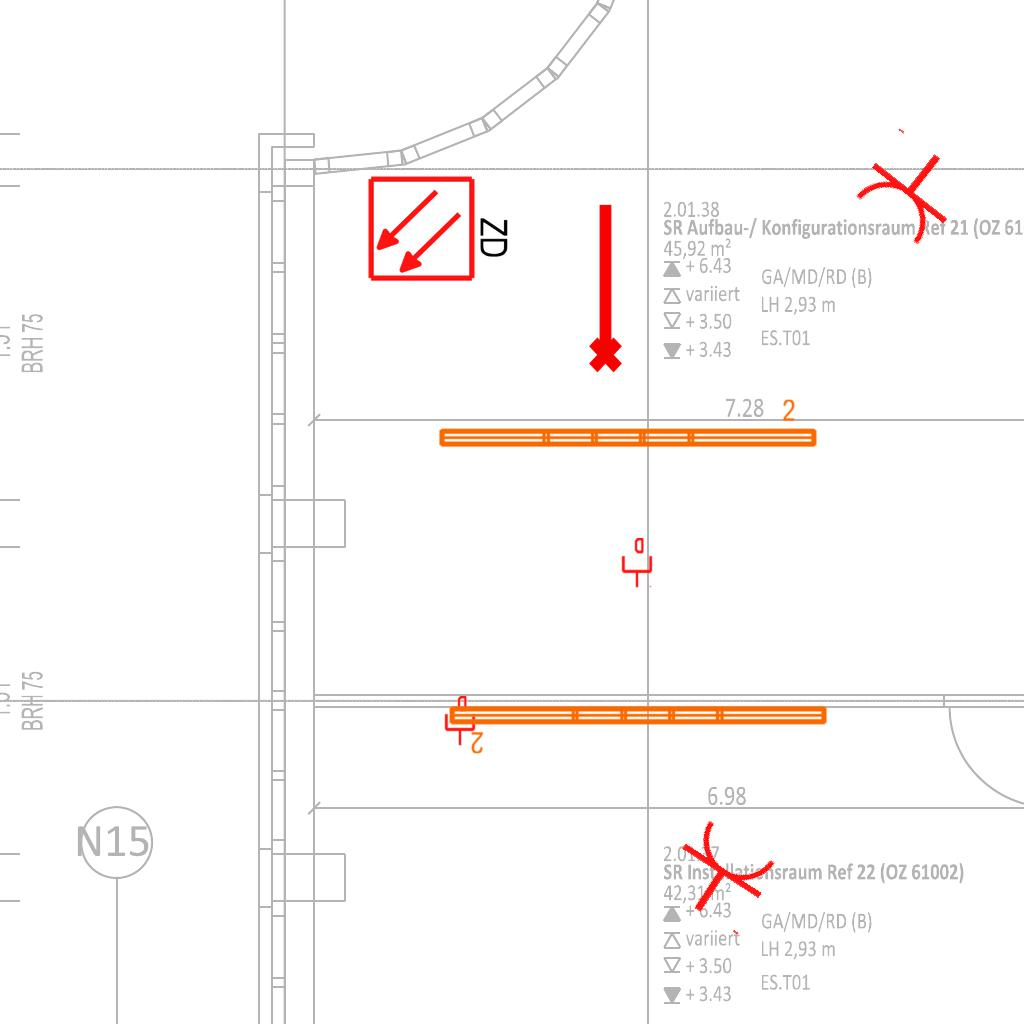ASR_Ansaugoeffnung: (580, 199, 626, 375)
Ambulanz_Pendelleuchte_LED: (434, 397, 821, 453), (445, 700, 832, 756)
Datenanschluss_einfach: (443, 696, 477, 746), (620, 538, 654, 588)
Schukosteckdose_einfach: (844, 122, 977, 254), (655, 812, 788, 940)
ZD_Melder_in_Zwischendecke_mit_Revisionsoeffnung_mind_40_x_40_cm: (366, 170, 515, 284)
